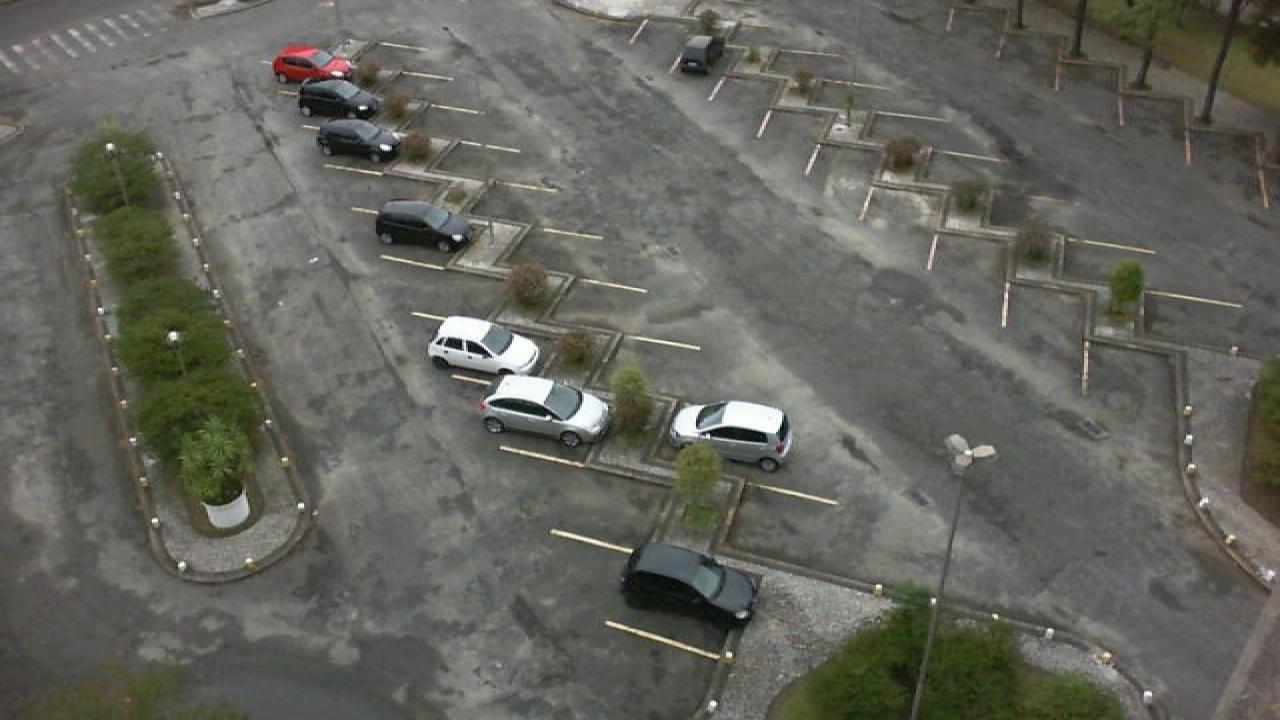Car: (616, 541, 760, 627), (478, 372, 612, 448), (668, 399, 792, 472), (424, 315, 542, 380), (372, 199, 472, 252), (314, 118, 402, 163), (296, 79, 384, 119), (270, 45, 356, 84), (672, 34, 726, 75)
